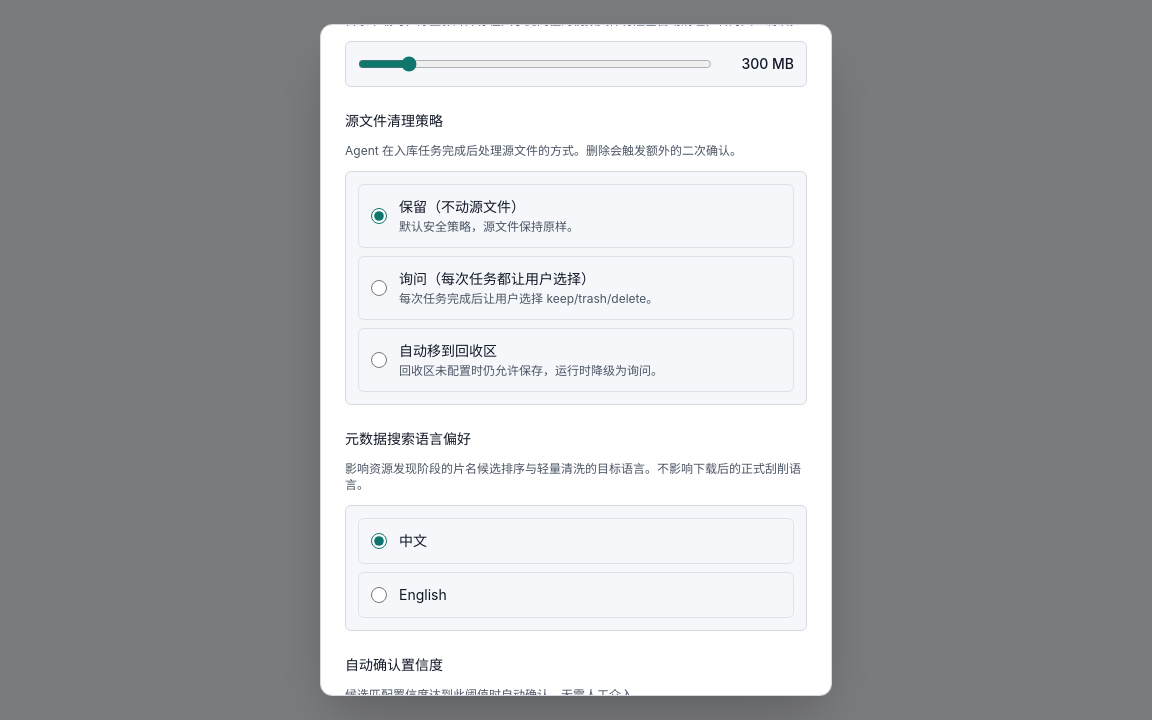
SettingsDialog › shows downgrade hint when trash policy picked without trash_dir
(page scrolled)
Expected: the heading "源文件清理策略" is shown, [345,112,443,129]
Click the radio button labelled "自动移到回收区 回收区未配置时仍允许保存，运行时降级为询问。" at (379, 360), box [371,352,387,368]
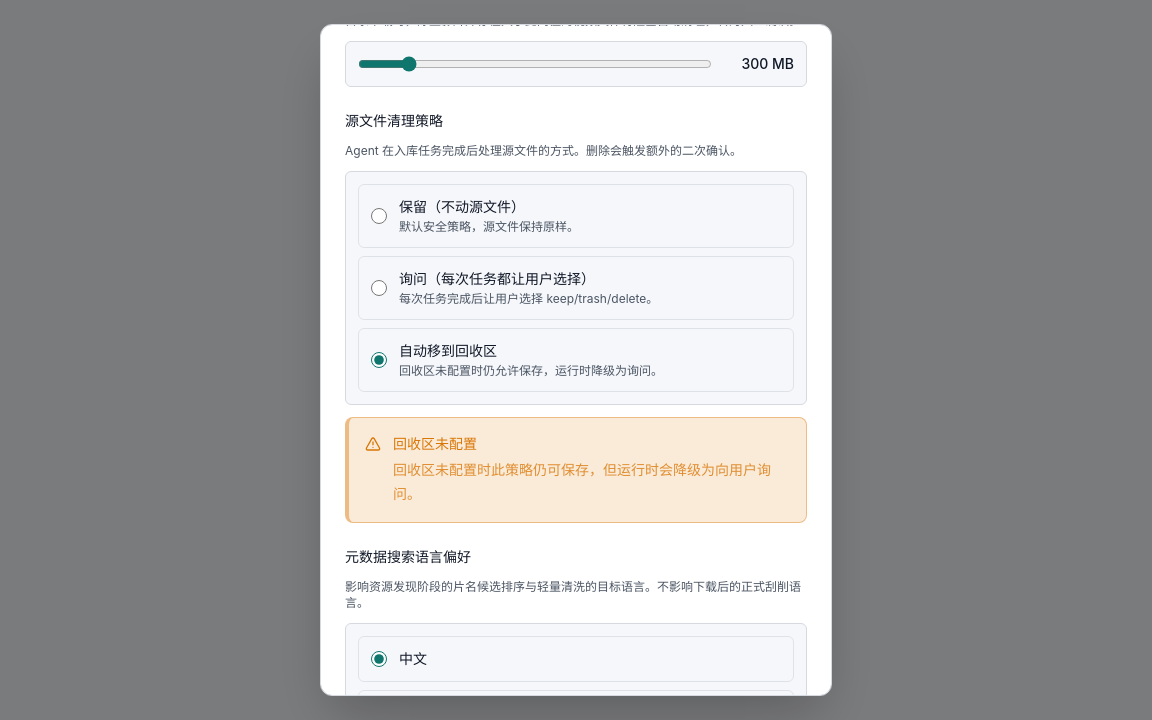
Expected: the text "回收区未配置" is shown, [393,435,477,452]
